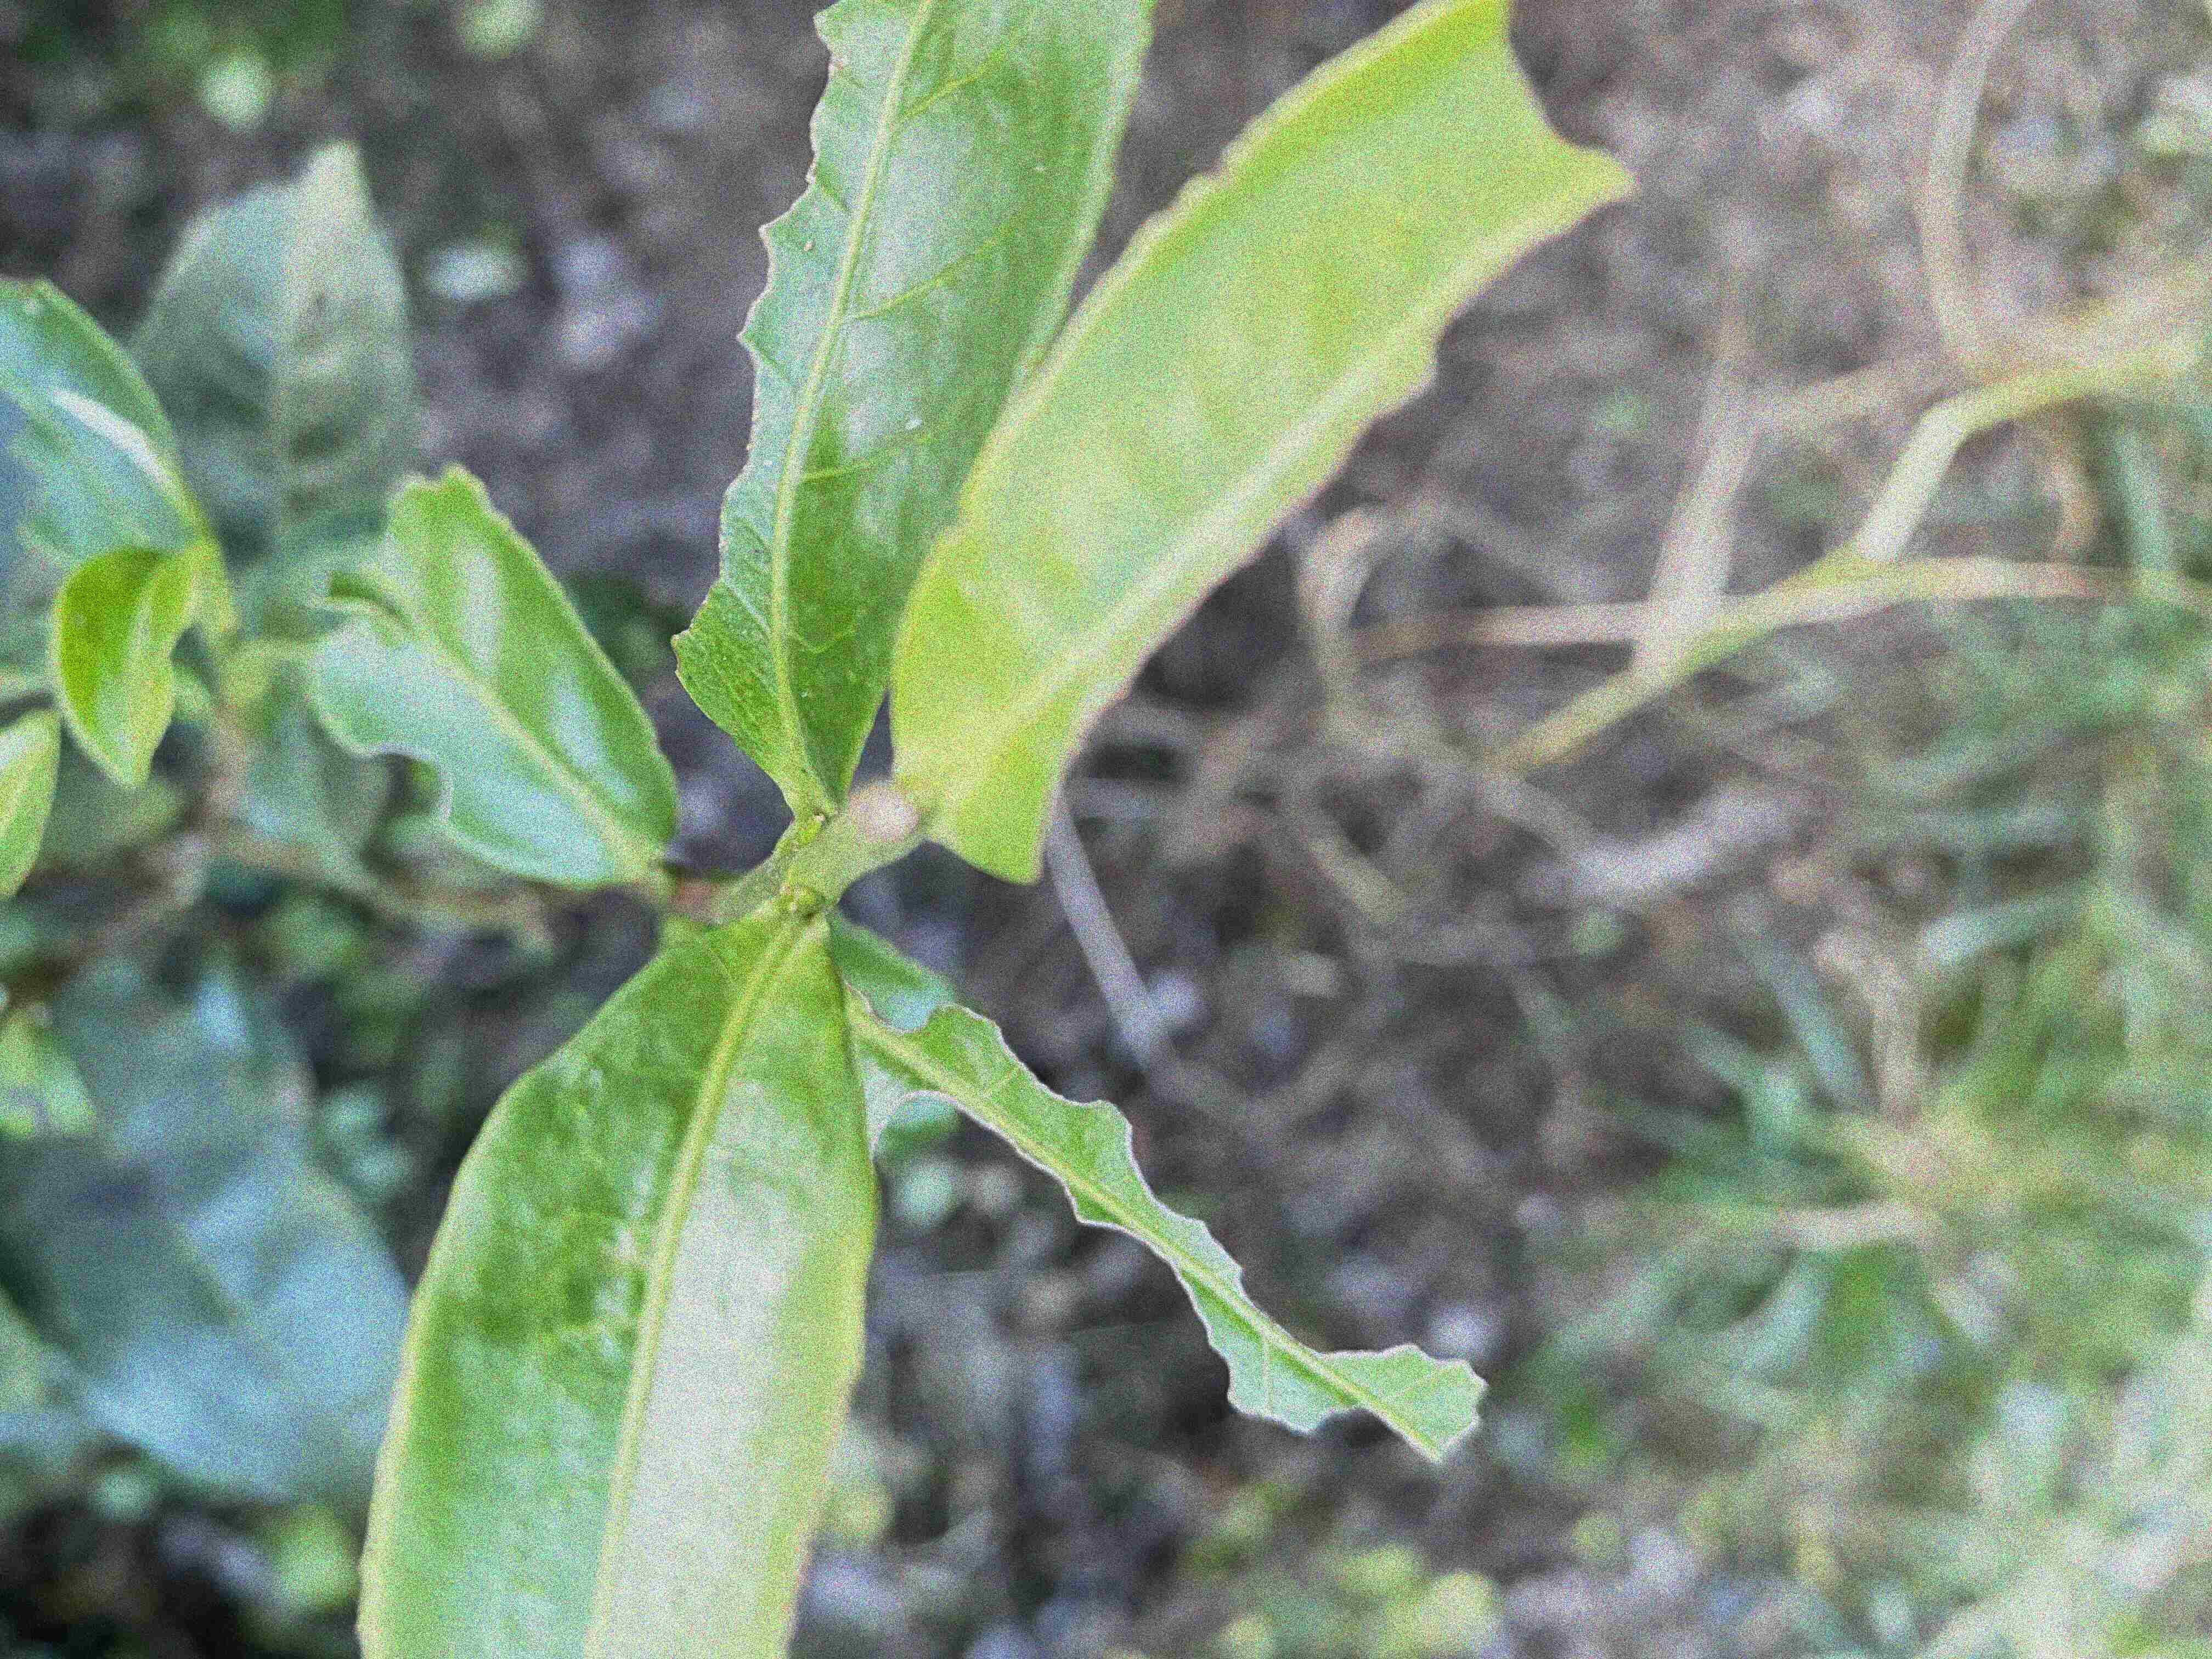chihuo_high: (887, 2, 1642, 889), (669, 3, 1153, 807), (848, 976, 1489, 1467), (307, 460, 683, 894)
healthy: (348, 897, 883, 1657)
